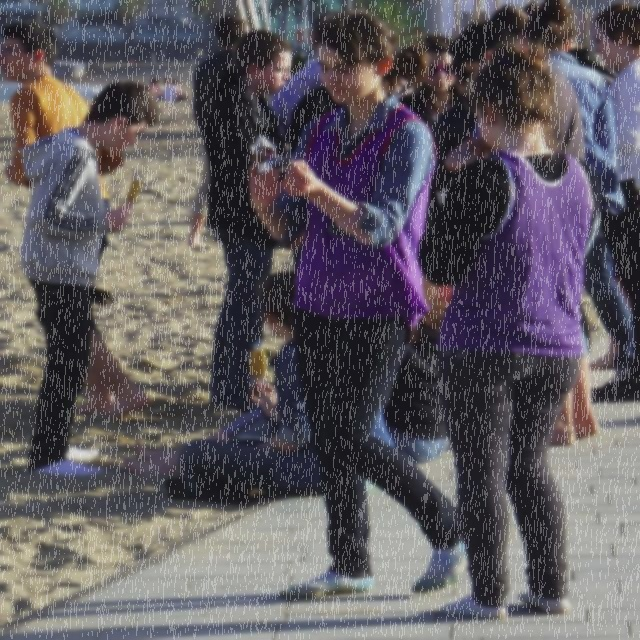pessoa: (245, 6, 487, 606), (410, 39, 609, 630), (122, 273, 450, 476), (0, 18, 157, 426), (14, 77, 162, 480), (201, 28, 296, 414), (169, 268, 326, 500), (445, 20, 589, 171), (592, 2, 640, 404), (183, 12, 250, 246), (272, 14, 340, 148), (397, 32, 461, 130), (583, 266, 634, 376), (444, 1, 540, 57), (441, 60, 474, 106), (566, 42, 606, 76), (163, 79, 191, 104), (142, 75, 166, 104), (294, 48, 314, 66), (160, 76, 172, 90), (196, 46, 203, 62)
